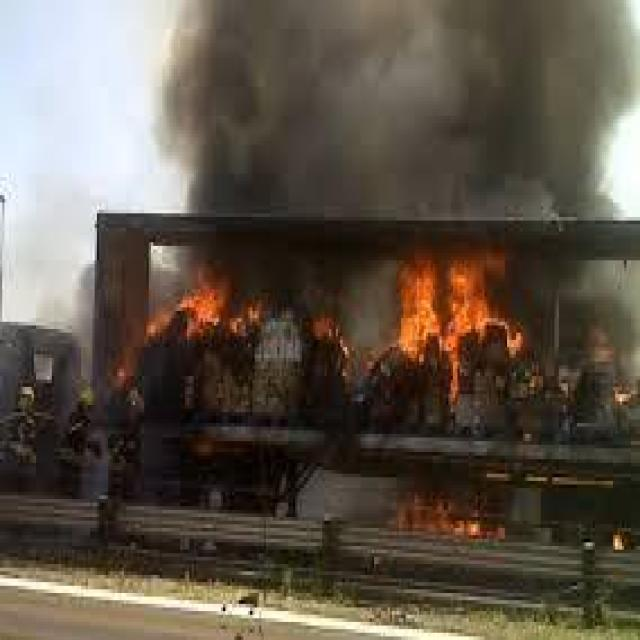fire: (134, 268, 544, 397), (392, 488, 518, 565), (595, 524, 625, 552)
smoke: (135, 7, 622, 219)
